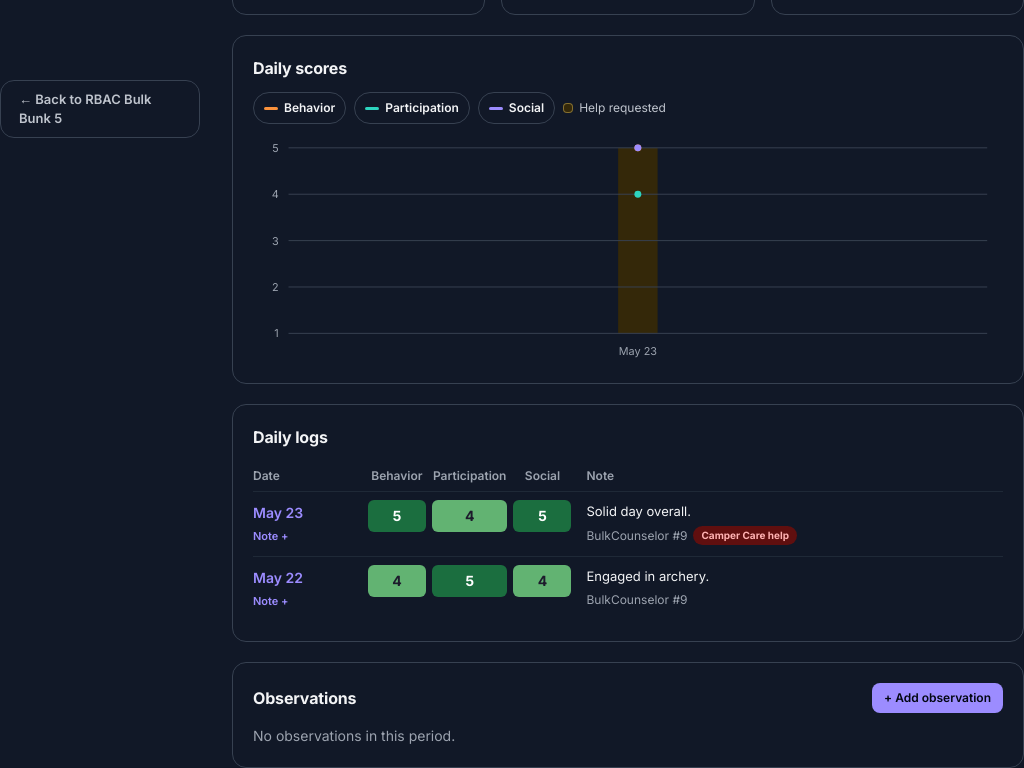
Test: SubjectDetail › pre-fills observation date from panel when viewing a single day
(page scrolled)
Click the button with test id "observation-add-btn".
click(938, 698)  # box [872,683,1003,713]
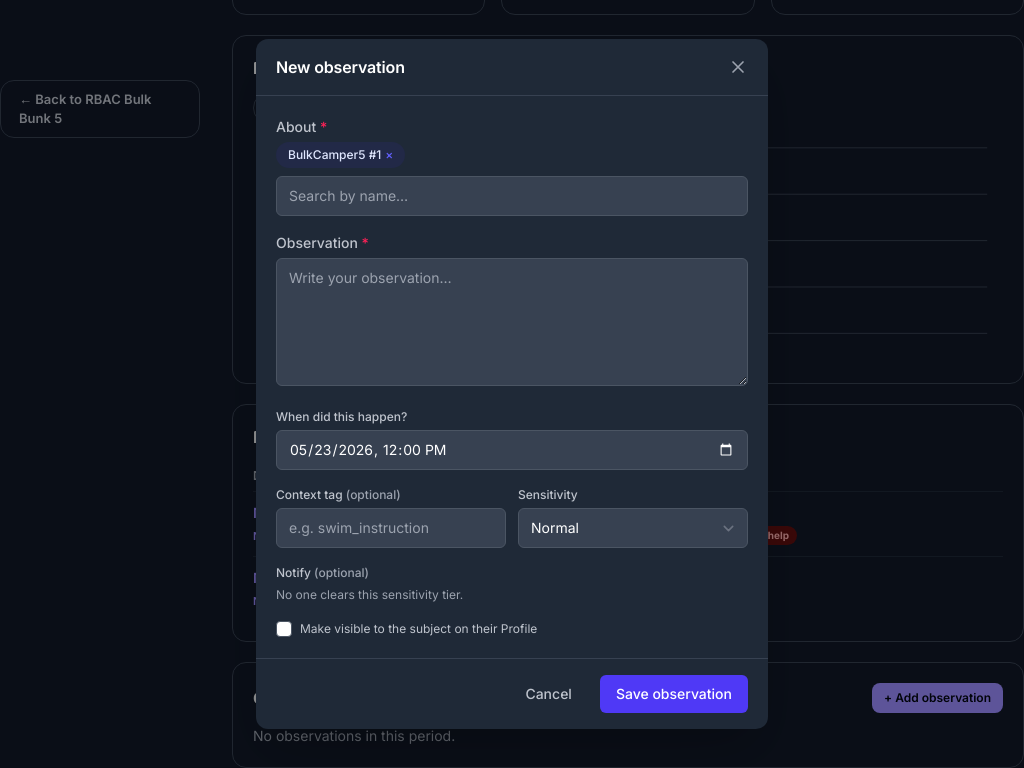
Now the field with test id "observation-composer-observed-at" holds "2026-05-23T12:00", box [276,430,748,470]
